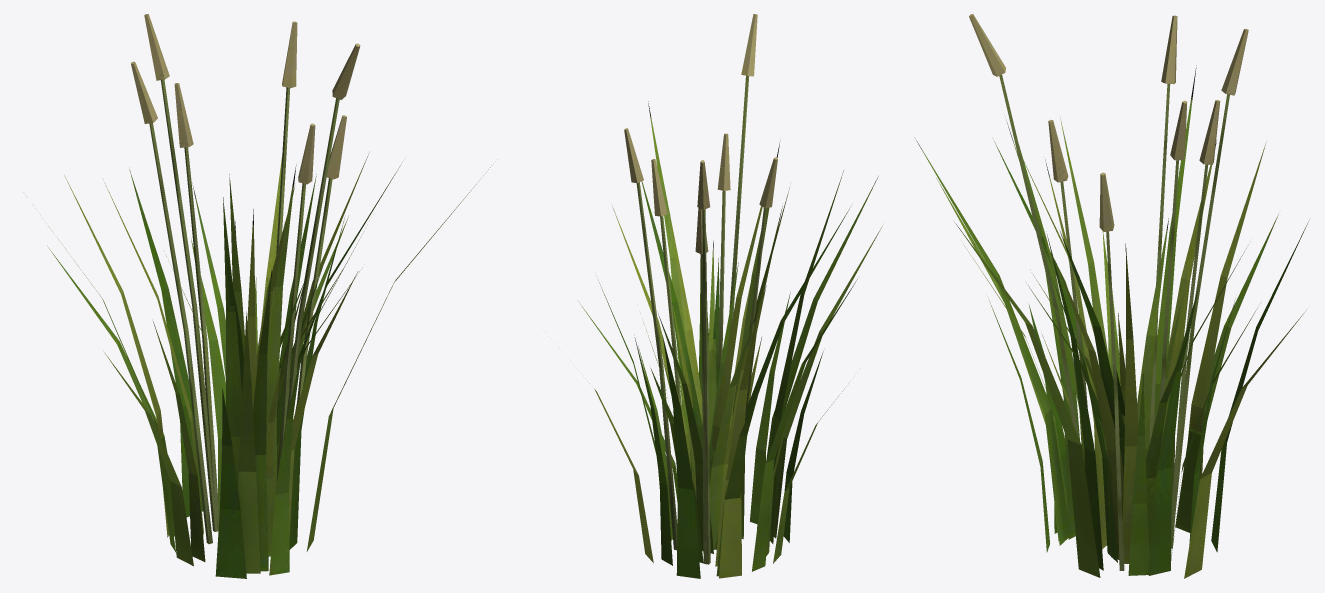
Rendered from grass_tall_idle.glb.
3 views of the same model, side by side, from view 1: azimuth 30°, elevation 25°; view 2: azimuth 150°, elevation 25°; view 3: azimuth 270°, elevation 25° (orthographic). The views are drawn at different scales.
Parts seen in each view (by area): view 1: grass_tall; view 2: grass_tall; view 3: grass_tall.
Part boxes in pixels (left/top/right/bottom): grass_tall: left=47, top=14, right=490, bottom=578; grass_tall: left=559, top=14, right=882, bottom=578; grass_tall: left=914, top=14, right=1309, bottom=578.
Bounding box in the file's own units: 0.65 × 0.9336 × 0.6071.
Materials: 1 (1 with a texture image).
